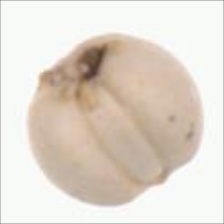L5: (78, 78, 171, 187), (33, 42, 119, 102)
L6: (22, 31, 206, 208)
